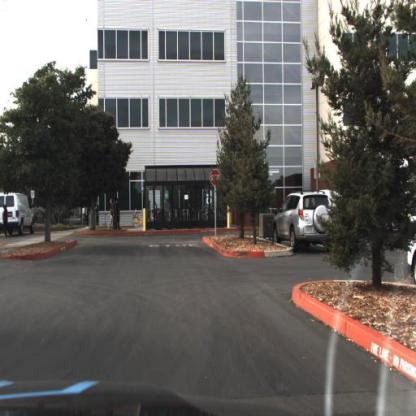car: (272, 191, 336, 252), (272, 190, 333, 252), (1, 194, 37, 237)
pedestrian: (2, 205, 11, 240), (105, 199, 115, 230), (113, 198, 119, 232), (117, 199, 122, 228)
truck: (1, 190, 36, 238)
